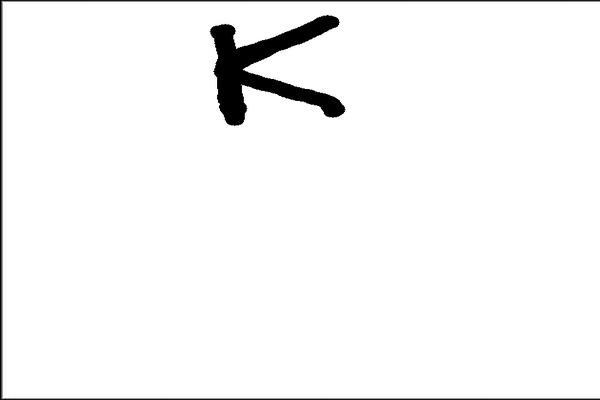K: (201, 8, 357, 126)
